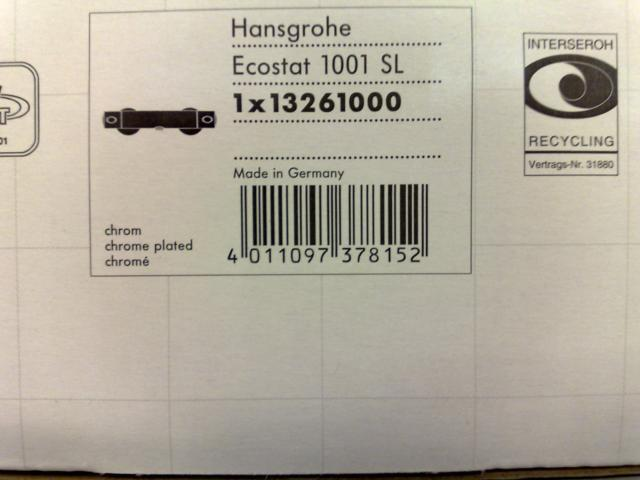Barcode: (217, 180, 450, 272)
